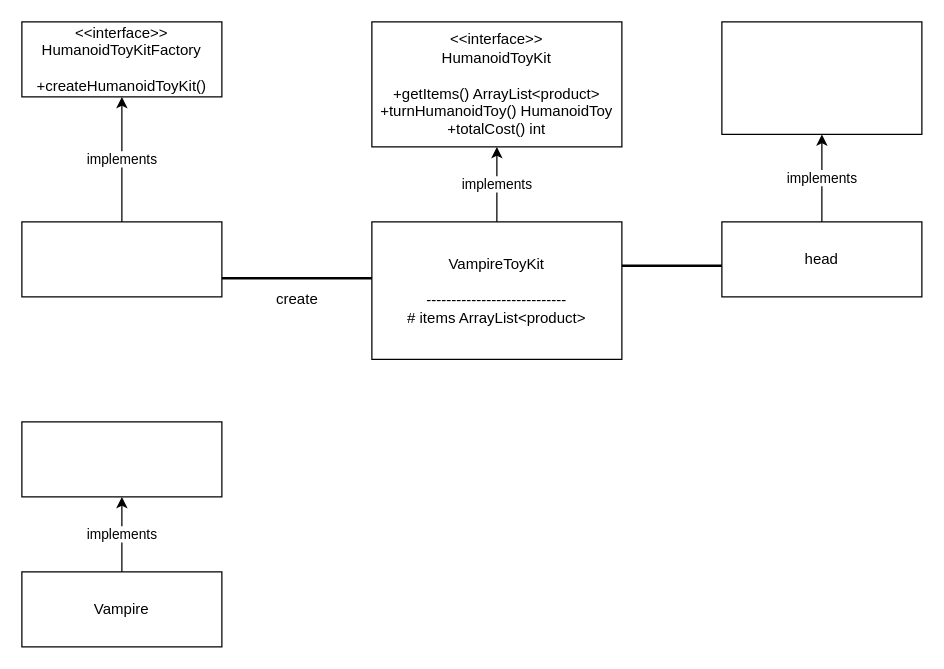
Some shapes in this 944 by 669 pixel diagram are drawn without their labels. Each missing label, with the centre of its shape:
"<<HumanoidToy>> +makeASound +walk" belongs at point 121,459.
"<<interface>> product +getCosts() int +retrictAge() int" belongs at point 821,77.
"VampireToyKitFactory +createVampireToyKit()" belongs at point 121,259.
